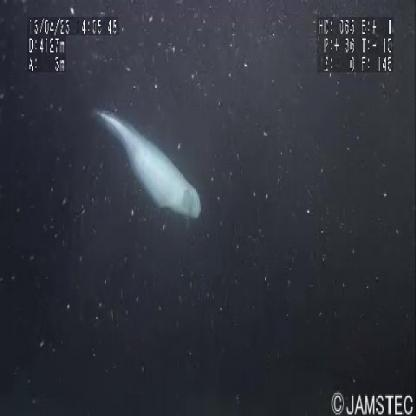Bio: (88, 103, 204, 225)
